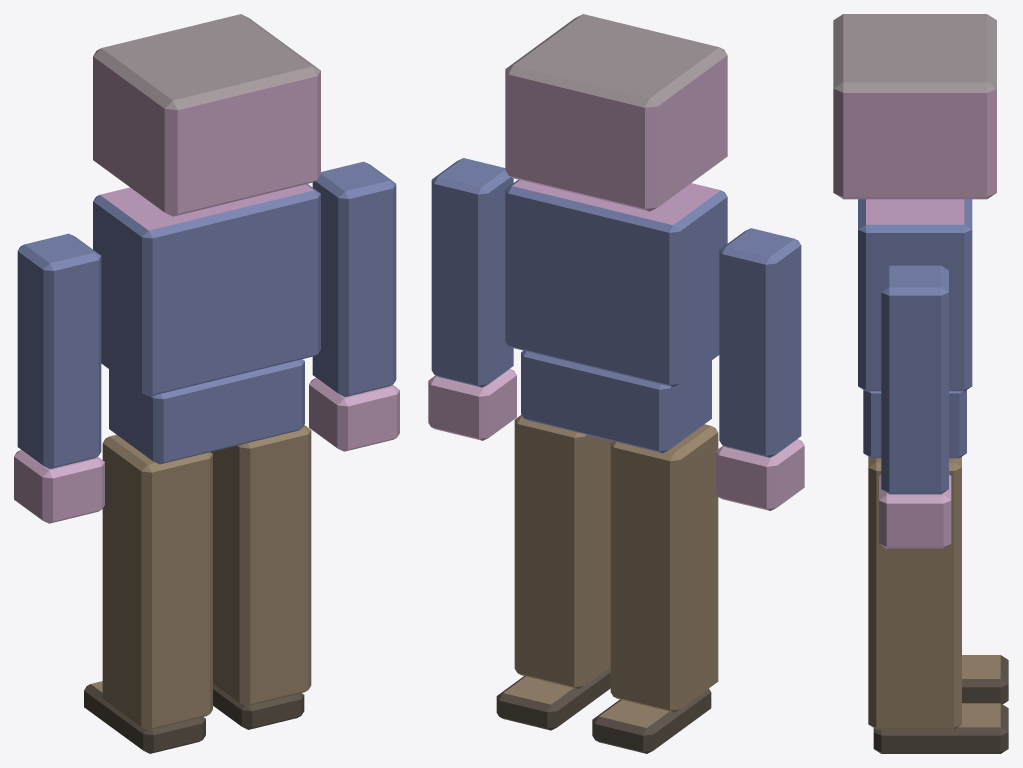
The model's file is boss.glb.
The picture shows the model from 3 angles, left to right: view 1: azimuth 30°, elevation 25°; view 2: azimuth 150°, elevation 25°; view 3: azimuth 270°, elevation 25°; orthographic projection. The views are drawn at different scales.
Parts seen in each view (by area): view 1: Boss; view 2: Boss; view 3: Boss.
Boxes of the visible parts, box(x1,y1,x2,y2) form: Boss: box(14, 14, 399, 753); Boss: box(428, 14, 804, 753); Boss: box(833, 14, 1008, 753).
Size of the model in its own units: 1.24 by 2.21 by 0.5231.
